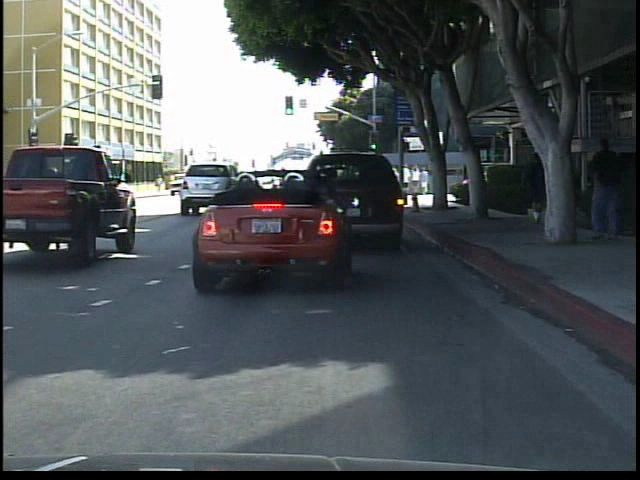person: (585, 134, 629, 241), (520, 149, 547, 230), (155, 172, 167, 194)
